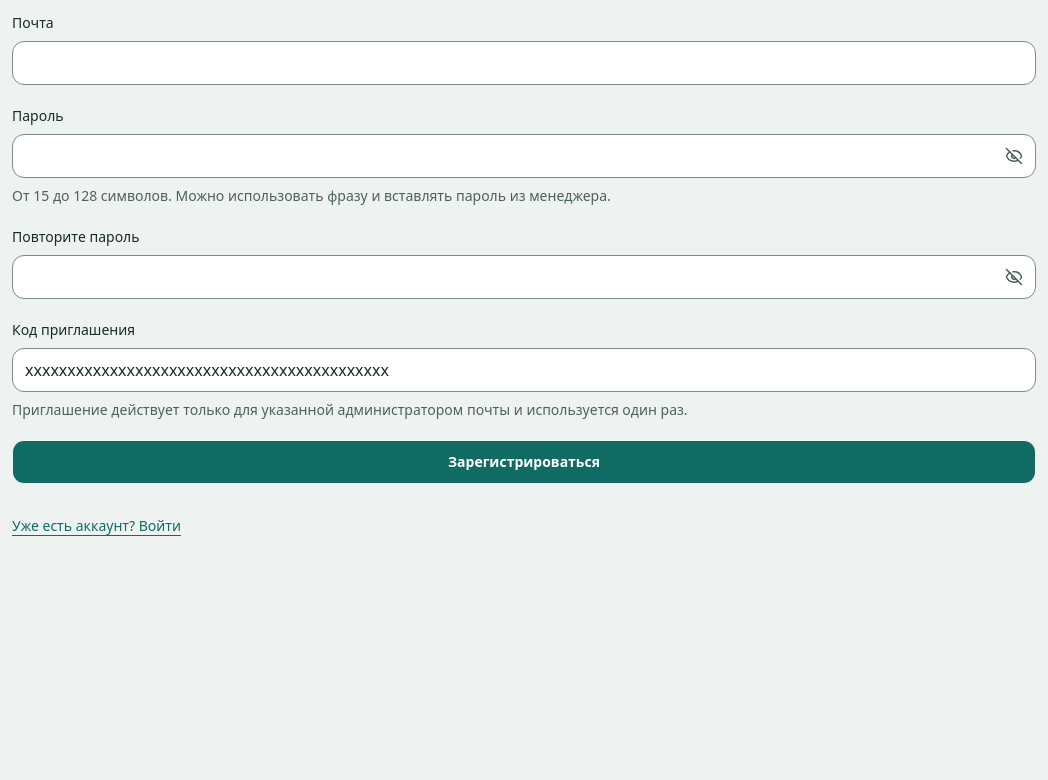
SPEC-0031 password forms › prefills invitation from the fragment without carrying it to the login
Type "invited@example.test" into the field labelled "Почта" at (524, 63), box [12,41,1036,85]
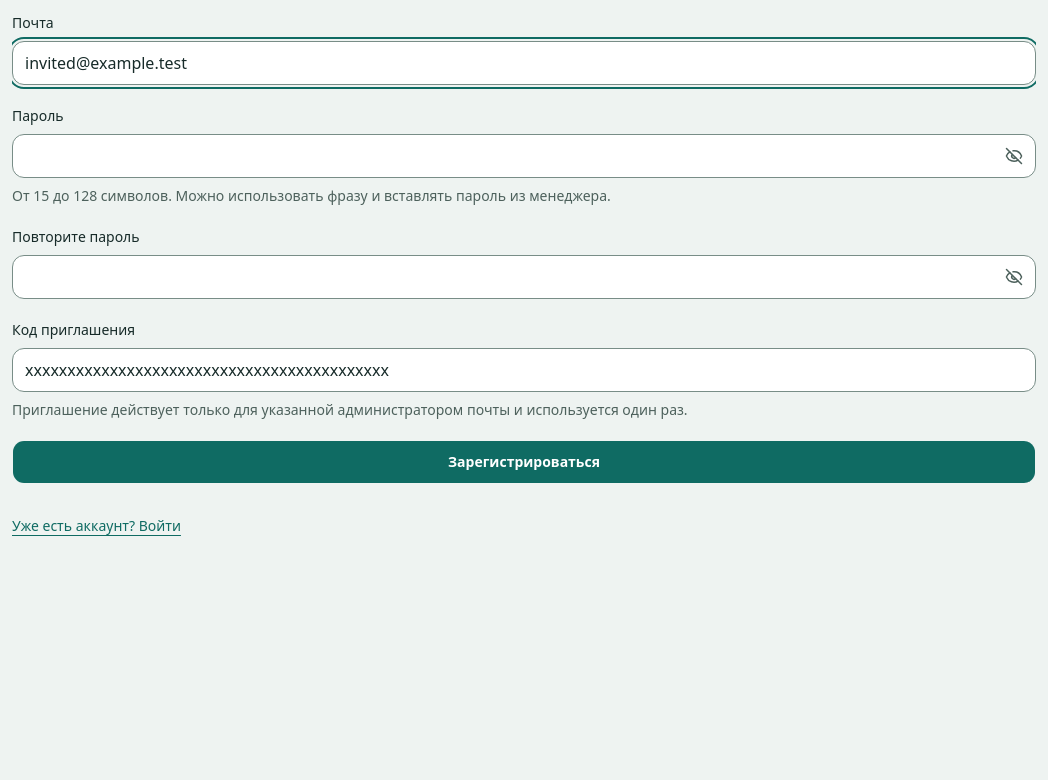
Type "a synthetic passphrase" into the password field labelled "Пароль" at (524, 156), box [12,134,1036,178]
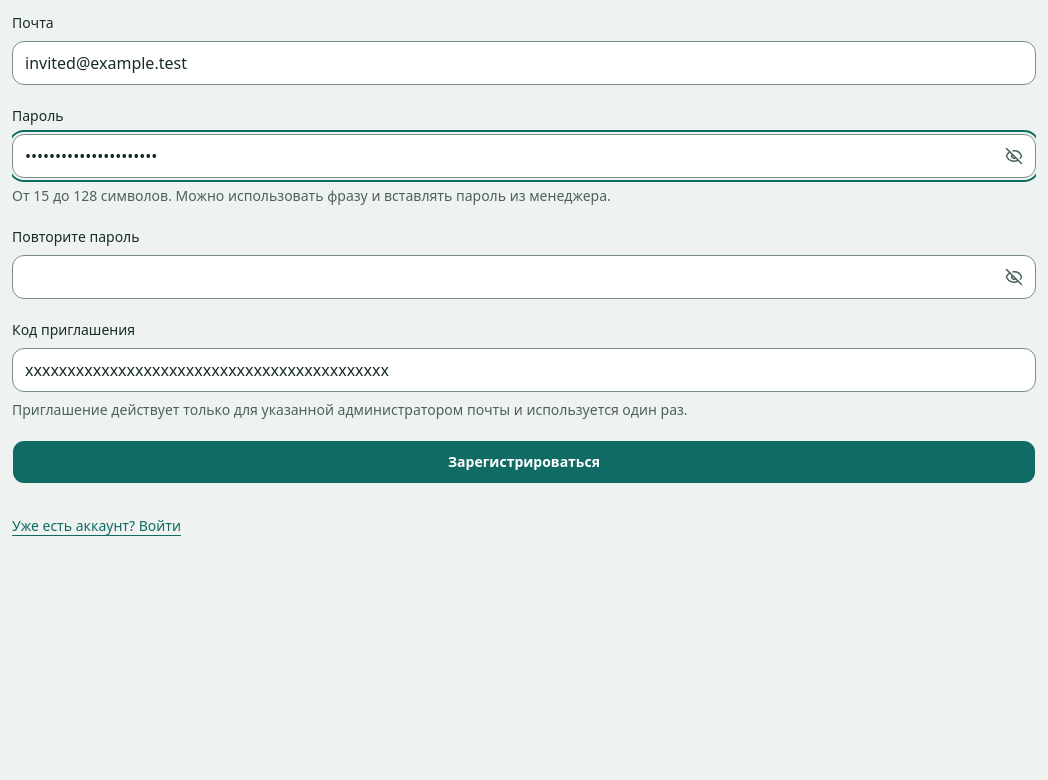
Type "a synthetic passphrase" into the password field labelled "Повторите пароль" at (524, 277), box [12,255,1036,299]
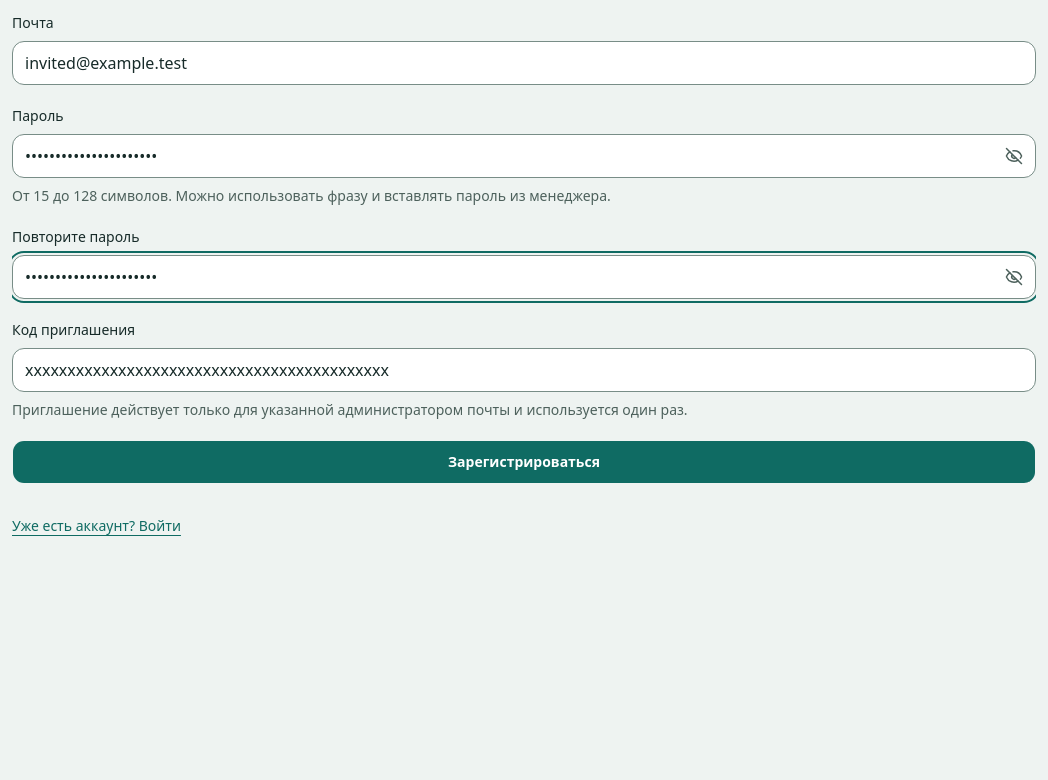
Click the button "Зарегистрироваться" at (524, 462), box [12,440,1036,484]
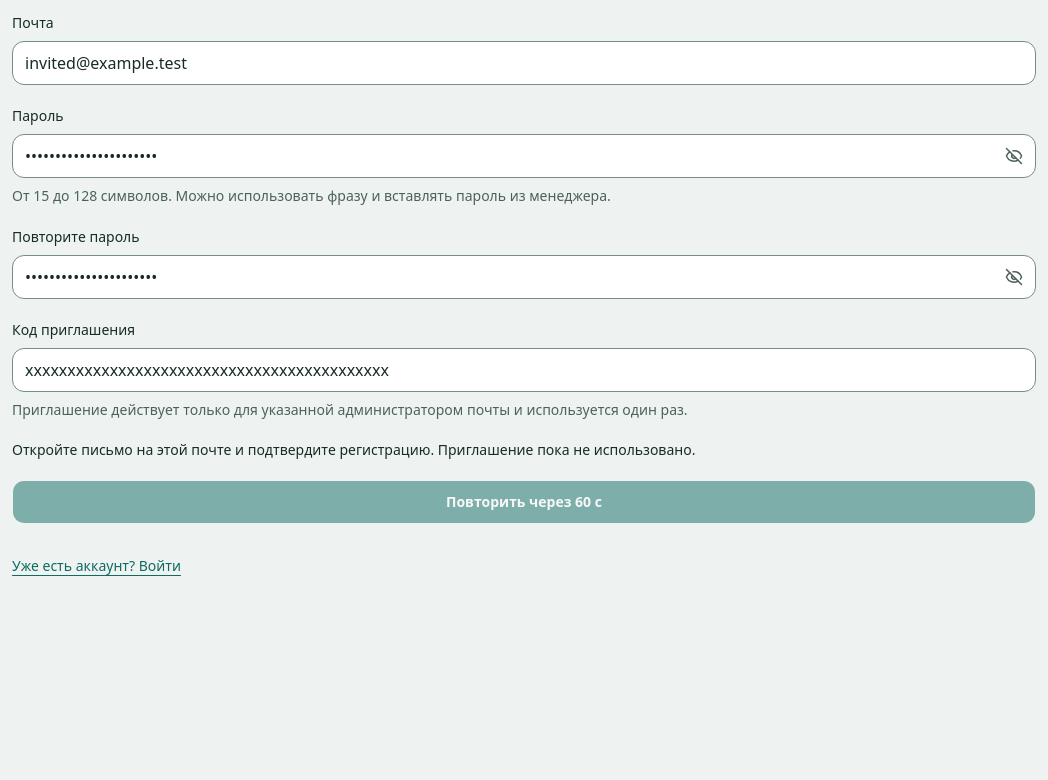
Expected: the message shows "Приглашение пока не использовано", [12,440,695,459]
Expected: the button "Повторить через 60 с" is disabled, [12,480,1036,524]
